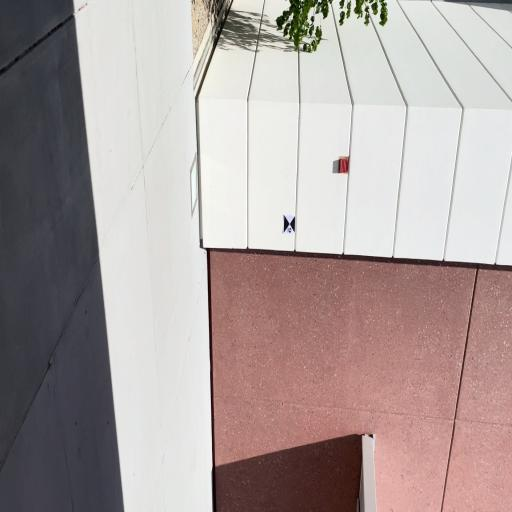target9: (284, 214, 296, 234)
